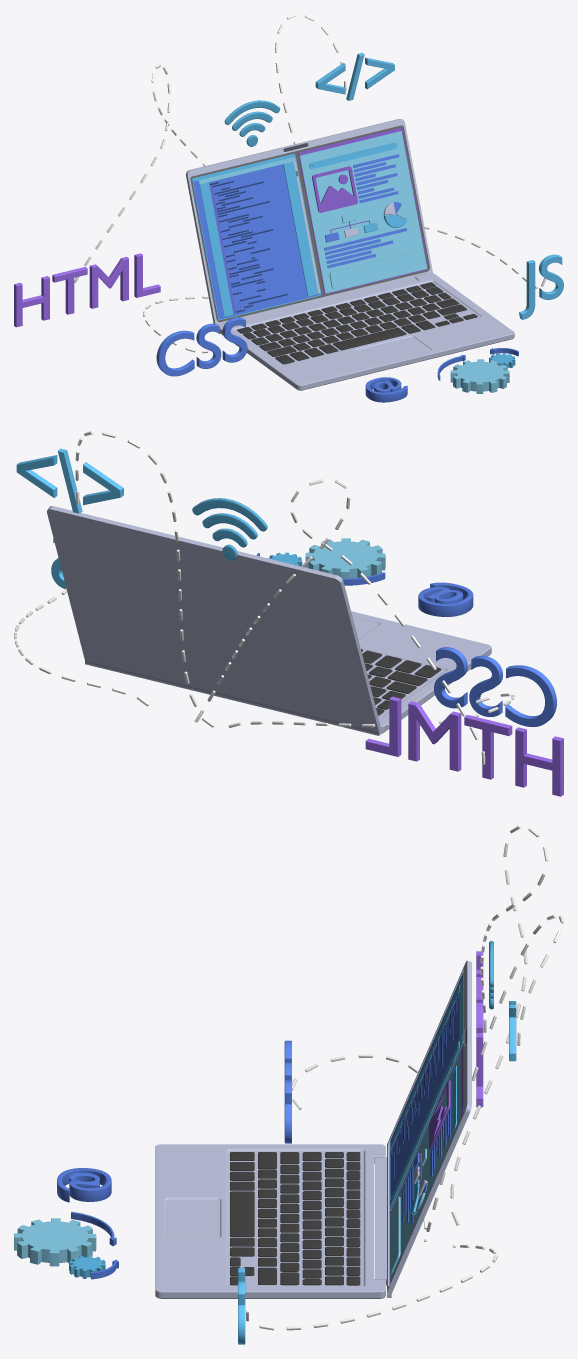
File: laptop.glb
3 views of the same model, one above another, from view 1: azimuth 30°, elevation 25°; view 2: azimuth 150°, elevation 25°; view 3: azimuth 270°, elevation 25° (orthographic). The views are drawn at different scales.
Visible parts, largest first — view 1: laptop body, Window 2 detail 001, Window 1 detail 001, laptop key bord, Window 2 detail 002, laptop screen, Window 1 detail 002, HTML, Gears, CSS, Lines, </> (+6 smaller); view 2: laptop screen, HTML, laptop body, CSS, Lines, Gears, laptop key bord, </>, Wi-Fi, @; view 3: laptop body, laptop key bord, laptop screen, Gears, Lines, Window 2 detail 001, Window 2 detail 002, Window 1 detail 001, Window 1 detail 002, @, HTML, CSS (+1 smaller).
Part boxes in pixels (<box>): laptop body: <box>219,273,514,390</box>; Window 2 detail 001: <box>192,153,321,320</box>; Window 1 detail 001: <box>298,127,427,294</box>; laptop key bord: <box>237,282,477,364</box>; Window 2 detail 002: <box>193,157,320,319</box>; laptop screen: <box>186,119,432,325</box>; Window 1 detail 002: <box>309,142,419,289</box>; HTML: <box>14,253,160,327</box>; Gears: <box>437,348,518,393</box>; CSS: <box>156,317,247,376</box>; Lines: <box>74,14,545,353</box>; </>: <box>315,52,394,100</box>; laptop screen: <box>47,506,381,735</box>; HTML: <box>365,696,563,796</box>; laptop body: <box>351,611,491,733</box>; CSS: <box>434,647,556,726</box>; Lines: <box>14,431,514,764</box>; Gears: <box>256,538,385,585</box>; laptop key bord: <box>361,649,441,715</box>; </>: <box>16,448,123,513</box>; Wi-Fi: <box>192,498,267,560</box>; @: <box>418,582,473,616</box>; laptop body: <box>155,1144,385,1298</box>; laptop key bord: <box>230,1152,360,1285</box>; laptop screen: <box>374,960,471,1297</box>; Gears: <box>14,1211,118,1279</box>; Lines: <box>246,825,563,1330</box>; Window 2 detail 001: <box>389,972,463,1211</box>; Window 2 detail 002: <box>390,977,461,1209</box>; Window 1 detail 001: <box>389,1044,463,1283</box>; Window 1 detail 002: <box>389,1065,456,1274</box>; @: <box>57,1168,111,1202</box>; HTML: <box>476,951,483,1107</box>; CSS: <box>284,1040,291,1143</box>.
Bounding box in the file's own units: 10.39 × 5.32 × 7.69.
